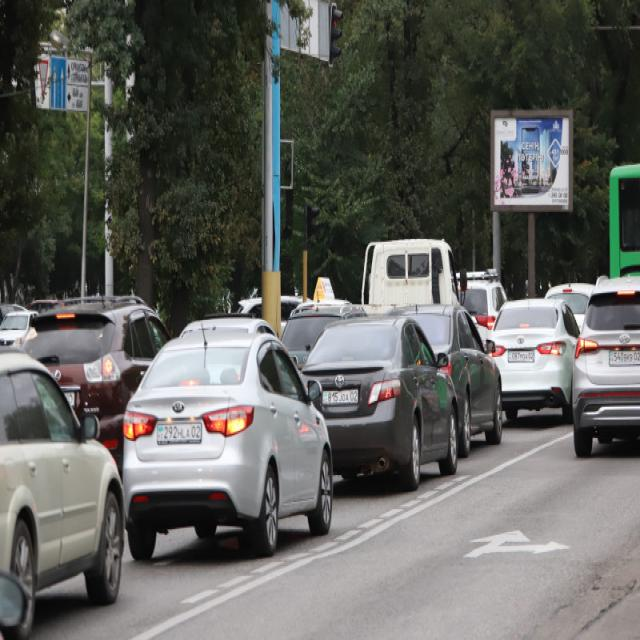number-plates: (156, 421, 202, 448), (321, 388, 360, 409), (606, 348, 640, 367), (508, 349, 535, 366)
